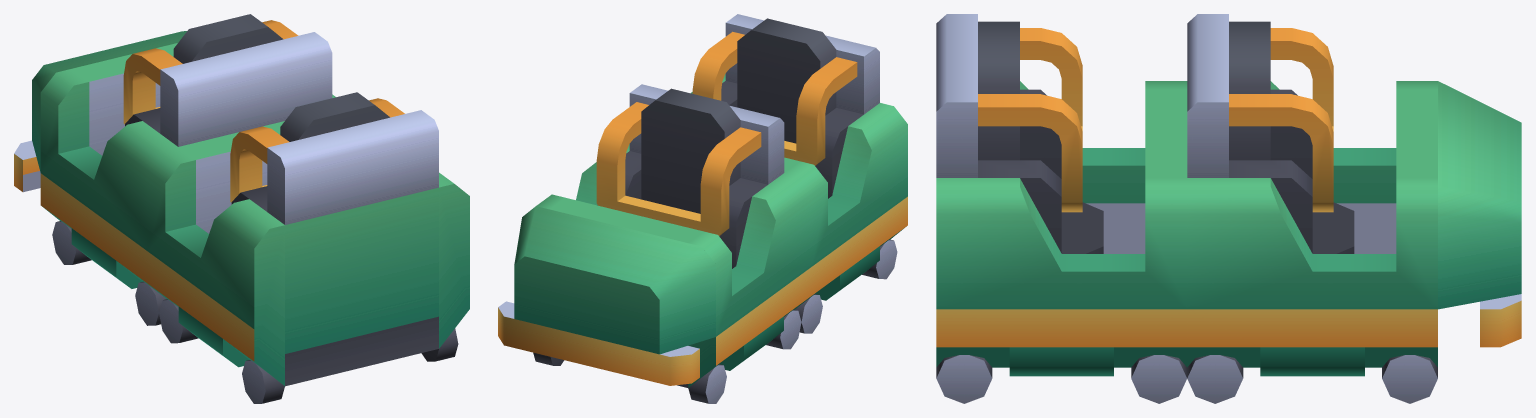
Rendered from coaster-train-safety.glb.
The picture shows the model from 3 angles, left to right: view 1: azimuth 30°, elevation 25°; view 2: azimuth 150°, elevation 25°; view 3: azimuth 270°, elevation 25°; orthographic projection. The views are drawn at different scales.
Visible parts, largest first — view 1: coaster-train-safety; view 2: coaster-train-safety; view 3: coaster-train-safety.
Boxes of the visible parts, x1=… form: coaster-train-safety: x1=14, y1=14, x2=469, y2=403; coaster-train-safety: x1=498, y1=14, x2=907, y2=403; coaster-train-safety: x1=936, y1=14, x2=1521, y2=403.
Bounding box in the file's own units: 0.7001 × 0.817 × 1.4.
1 material, 1 textured.
